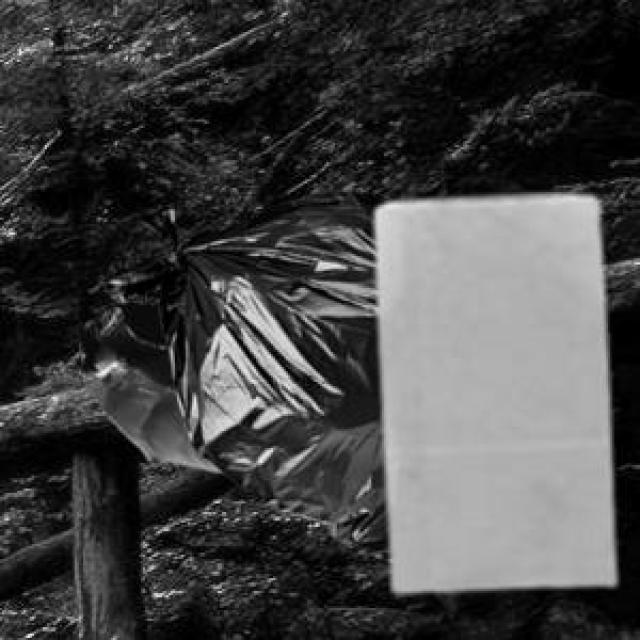miscellaneous trash: (100, 188, 386, 540), (77, 301, 217, 467)
paper: (371, 190, 610, 587)
